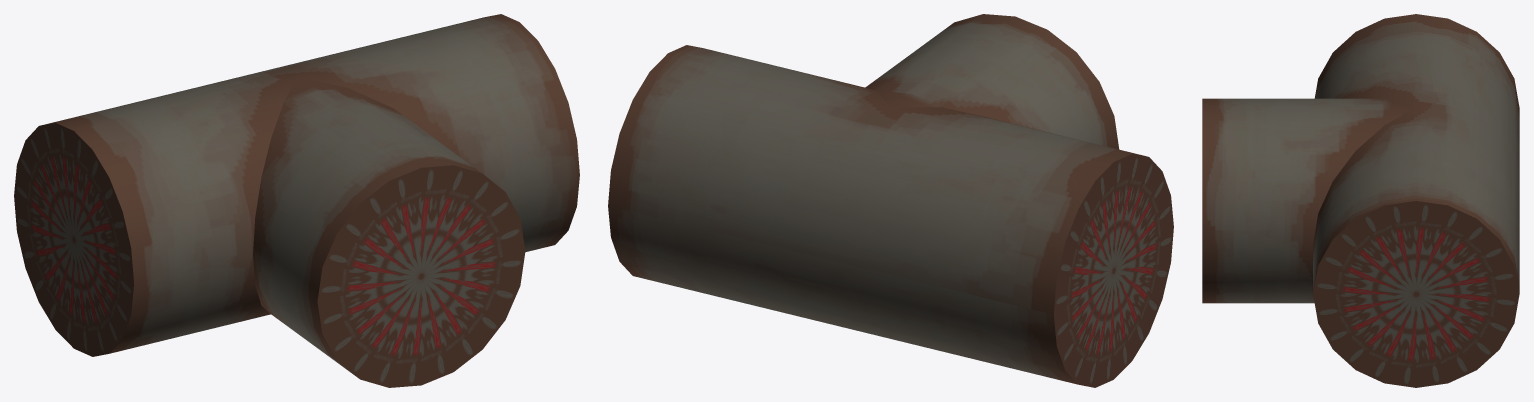
File: threeSidePipe.fbx
3 views of the same model, side by side, from view 1: azimuth 30°, elevation 25°; view 2: azimuth 150°, elevation 25°; view 3: azimuth 270°, elevation 25° (orthographic). The views are drawn at different scales.
Parts seen in each view (by area): view 1: pipe; view 2: pipe; view 3: pipe.
Boxes of the visible parts, x1,y1,x2,y2 form: pipe: (14,14,579,387); pipe: (608,14,1173,387); pipe: (1202,14,1519,387).
Bounding box in the file's own units: 1.55 × 0.7234 × 1.11.
